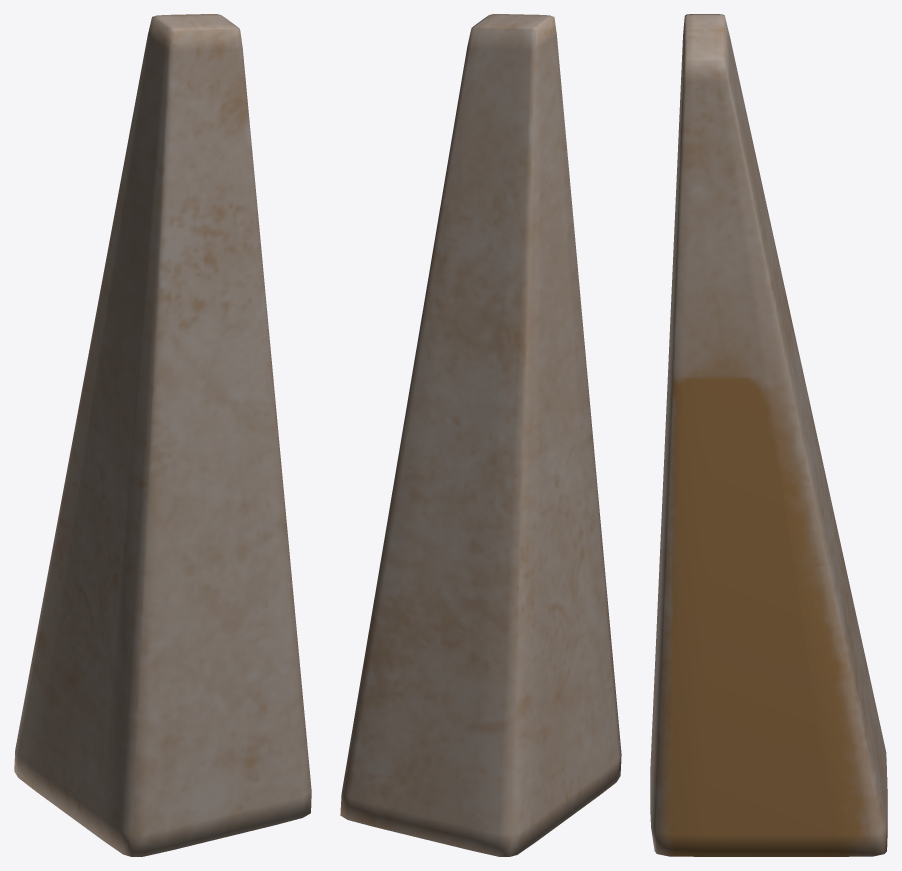
The model's file is gate2.fbx.
The picture shows the model from 3 angles, left to right: view 1: azimuth 30°, elevation 25°; view 2: azimuth 150°, elevation 25°; view 3: azimuth 270°, elevation 25°; orthographic projection. The views are drawn at different scales.
Visible parts, largest first — view 1: gate2; view 2: gate2; view 3: gate2.
Part boxes in pixels (x1=…): gate2: x1=14, y1=14, x2=311, y2=856; gate2: x1=340, y1=14, x2=621, y2=856; gate2: x1=650, y1=14, x2=887, y2=856.
Size of the model in its own units: 485 by 1989 by 543.
1 material, 1 textured.
